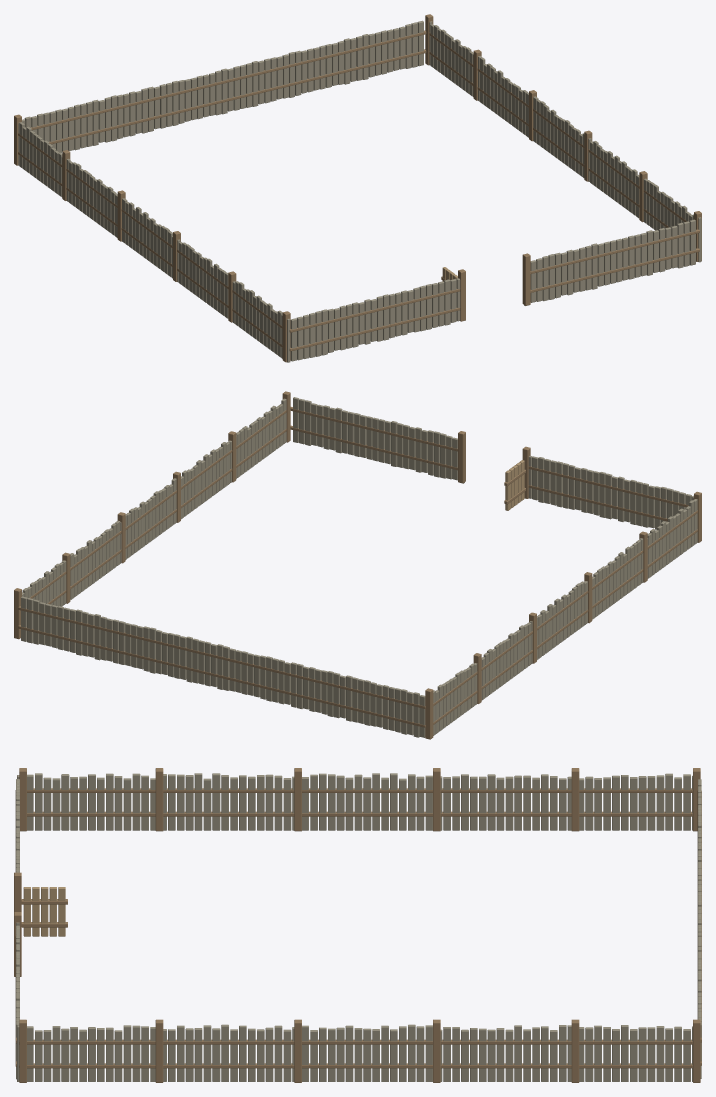
The model's file is SM_SlackerFriendsHouse_Fence.fbx.
3 views of the same model, one above another, from view 1: azimuth 30°, elevation 25°; view 2: azimuth 150°, elevation 25°; view 3: azimuth 270°, elevation 25° (orthographic). The views are drawn at different scales.
Parts seen in each view (by area): view 1: EXPORT_Rear_Fence_Rail.001, EXPORT_Rear_Fence_Rail, EXPORT_Fence_Rail, EXPORT_Fence_Rail.001, EXPORT_Fence_Rail.003, EXPORT_Fence_Rail.002, EXPORT_Front_Fence_Rail, EXPORT_Front_Fence_Rail.002, EXPORT_Front_Fence_Rail.001, EXPORT_Front_Fence_Rail.003; view 2: EXPORT_Rear_Fence_Rail, EXPORT_Rear_Fence_Rail.001, EXPORT_Fence_Rail.001, EXPORT_Fence_Rail, EXPORT_Fence_Rail.003, EXPORT_Fence_Rail.002, EXPORT_Front_Fence_Rail.003, EXPORT_Front_Fence_Rail.001; view 3: EXPORT_Fence_Rail.002, EXPORT_Fence_Rail.003, EXPORT_Fence_Rail, EXPORT_Fence_Rail.001, EXPORT_Fence_Post.001, EXPORT_Fence_Post.004, EXPORT_Fence_Post.007, EXPORT_Fence_Post.010, EXPORT_Fence_Post.003, EXPORT_Fence_Post.006, EXPORT_Fence_Post.009, EXPORT_Fence_Post.002 (+2 smaller).
Part boxes in pixels (x1,y1,x2,y2): EXPORT_Rear_Fence_Rail.001: [31, 30, 426, 130]; EXPORT_Rear_Fence_Rail: [49, 49, 426, 144]; EXPORT_Fence_Rail: [18, 152, 282, 347]; EXPORT_Fence_Rail.001: [18, 133, 282, 328]; EXPORT_Fence_Rail.003: [429, 33, 686, 221]; EXPORT_Fence_Rail.002: [429, 51, 668, 227]; EXPORT_Front_Fence_Rail: [289, 307, 460, 351]; EXPORT_Front_Fence_Rail.002: [289, 289, 460, 332]; EXPORT_Front_Fence_Rail.001: [530, 248, 699, 292]; EXPORT_Front_Fence_Rail.003: [530, 229, 699, 273]; EXPORT_Rear_Fence_Rail: [18, 625, 425, 727]; EXPORT_Rear_Fence_Rail.001: [18, 606, 425, 708]; EXPORT_Fence_Rail.001: [433, 510, 697, 705]; EXPORT_Fence_Rail: [433, 529, 697, 724]; EXPORT_Fence_Rail.003: [30, 410, 286, 598]; EXPORT_Fence_Rail.002: [47, 429, 286, 604]; EXPORT_Front_Fence_Rail.003: [290, 407, 457, 451]; EXPORT_Front_Fence_Rail.001: [290, 425, 457, 470]; EXPORT_Fence_Rail.002: [19, 1063, 692, 1068]; EXPORT_Fence_Rail.003: [19, 1039, 692, 1044]; EXPORT_Fence_Rail: [27, 811, 692, 816]; EXPORT_Fence_Rail.001: [27, 788, 692, 792]; EXPORT_Fence_Post.001: [155, 768, 163, 831]; EXPORT_Fence_Post.004: [571, 768, 579, 831]; EXPORT_Fence_Post.007: [155, 1019, 163, 1082]; EXPORT_Fence_Post.010: [571, 1019, 579, 1082]; EXPORT_Fence_Post.003: [433, 768, 440, 831]; EXPORT_Fence_Post.006: [19, 1019, 26, 1082]; EXPORT_Fence_Post.009: [433, 1019, 440, 1082]; EXPORT_Fence_Post.002: [294, 768, 301, 831].
Bounding box in the file's own units: 1392 × 1588 × 161.
